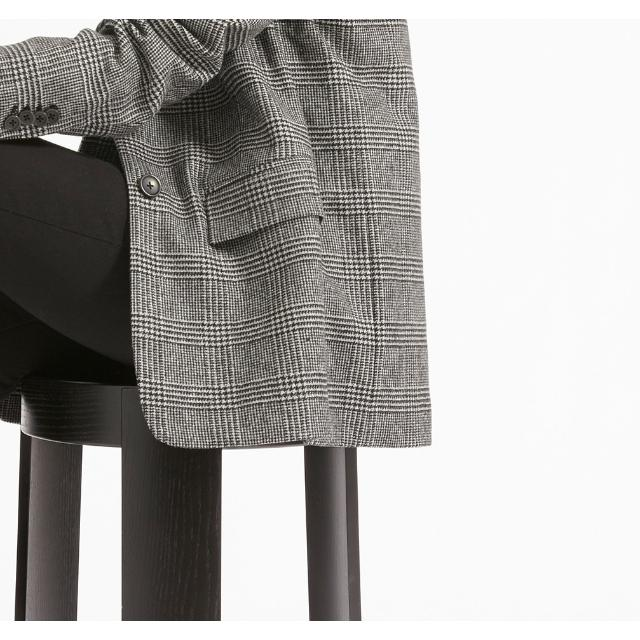wool: (81, 19, 455, 460)
